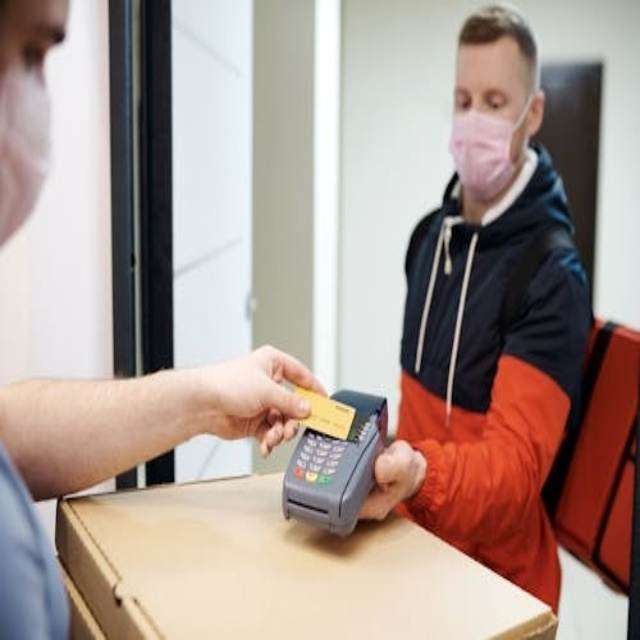Mascara: (0, 53, 52, 254), (451, 91, 532, 198)
Sin_gafas: (449, 69, 524, 115)
Sin_guantes: (194, 343, 329, 452), (359, 436, 427, 521)
